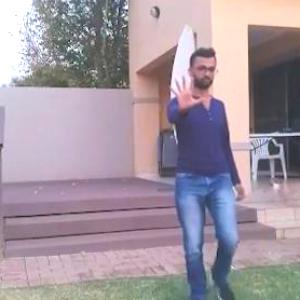follow_hand: (165, 70, 209, 116)
